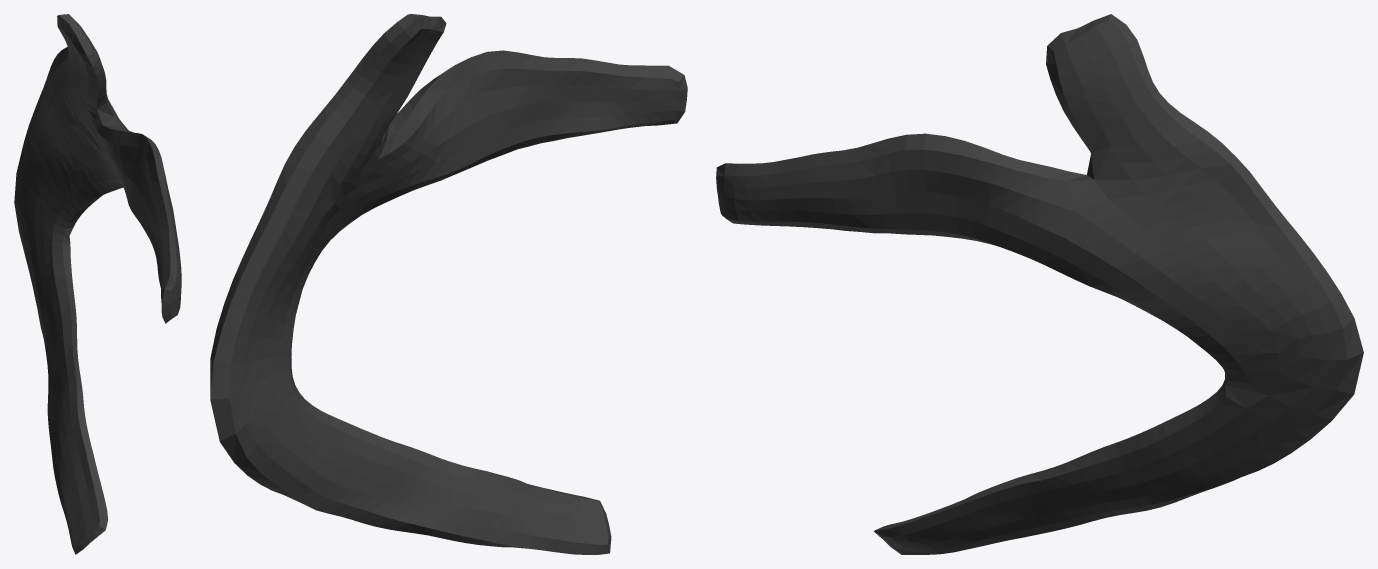
File: orbic_oris.glb
The picture shows the model from 3 angles, left to right: view 1: azimuth 30°, elevation 25°; view 2: azimuth 150°, elevation 25°; view 3: azimuth 270°, elevation 25°; orthographic projection. The views are drawn at different scales.
Parts seen in each view (by area): view 1: orbic_oris; view 2: orbic_oris; view 3: orbic_oris.
Part boxes in pixels (<box>): orbic_oris: <box>14,14,181,554</box>; orbic_oris: <box>210,14,687,554</box>; orbic_oris: <box>716,14,1363,554</box>.
Bounding box in the file's own units: 0.4113 × 1.23 × 1.24.
Materials: 1 (1 with a texture image).
